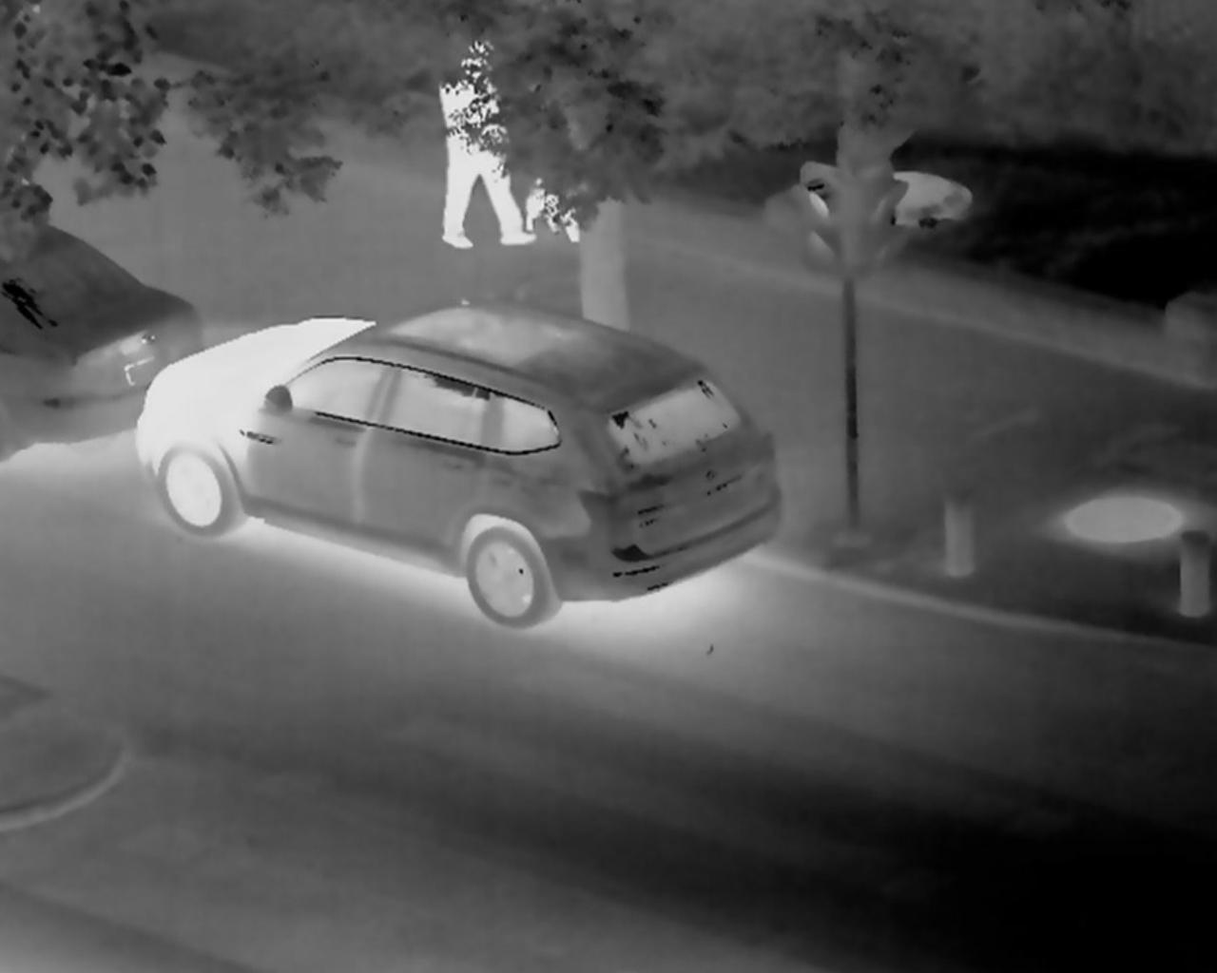person: (436, 43, 532, 275)
